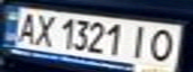1: (103, 20, 127, 56), (54, 16, 75, 51)
2: (87, 18, 109, 55)
3: (69, 17, 90, 52)
A: (12, 10, 42, 45)
I: (124, 24, 157, 60)
O: (145, 26, 184, 62)
X: (30, 11, 57, 47)
